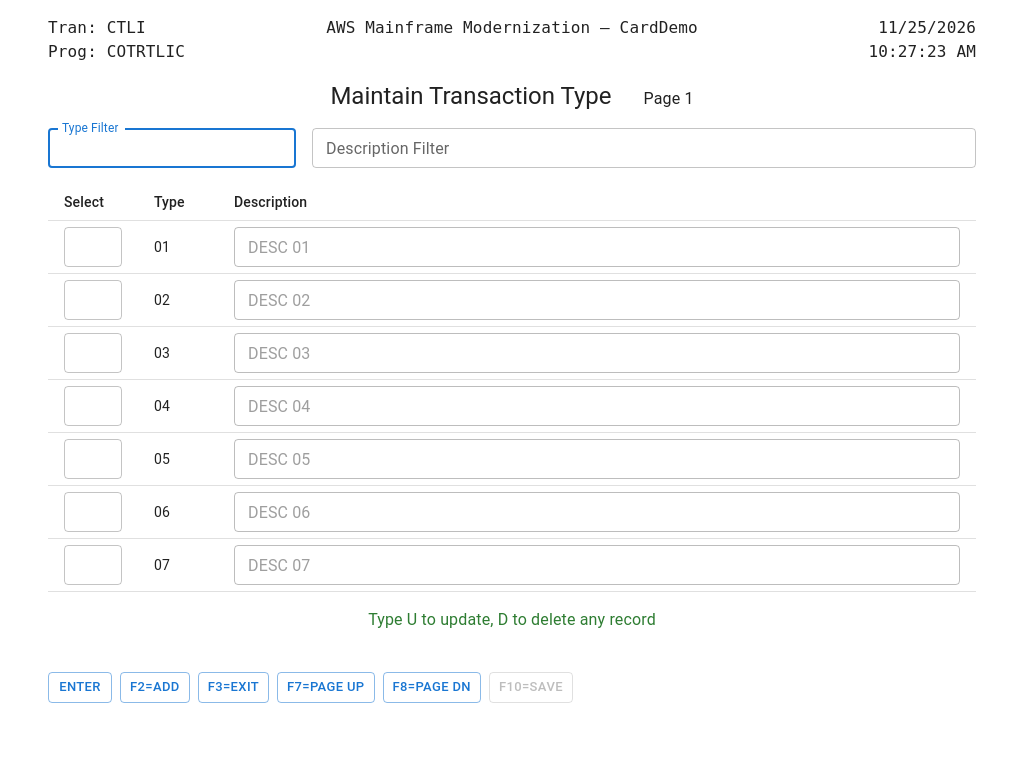
it: TransactionTypeListPage (CTLI) › delete success reloads page 1
Expected: the row with test id "row-01" is shown, x1=48 y1=220 x2=976 y2=274
In the field named "action 03": (93, 353) x1=64 y1=333 x2=122 y2=373, type "D"
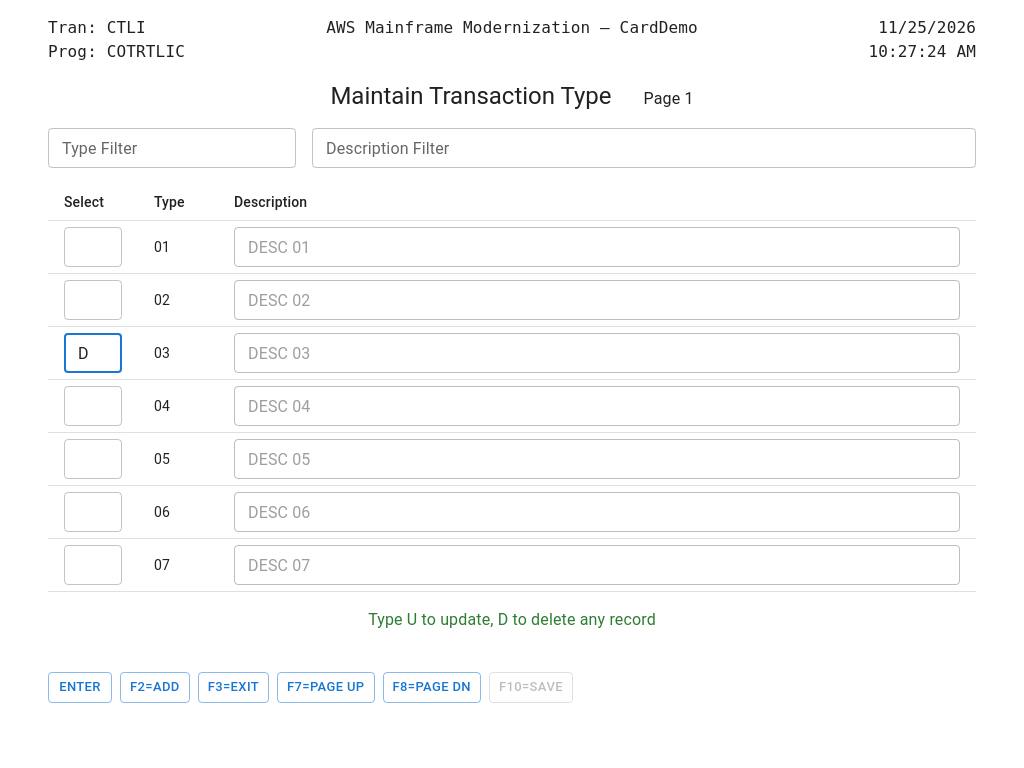
Click the button "ENTER": (80, 687) x1=48 y1=672 x2=112 y2=703
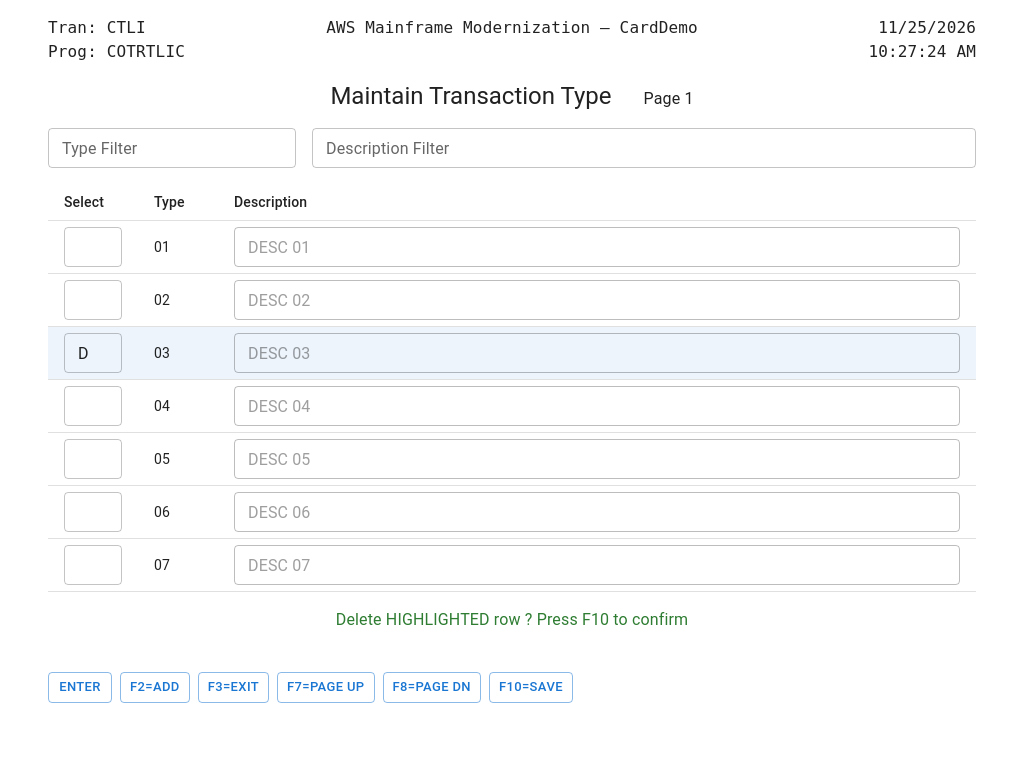
Click the button "F10=Save": (531, 687) x1=489 y1=672 x2=573 y2=703
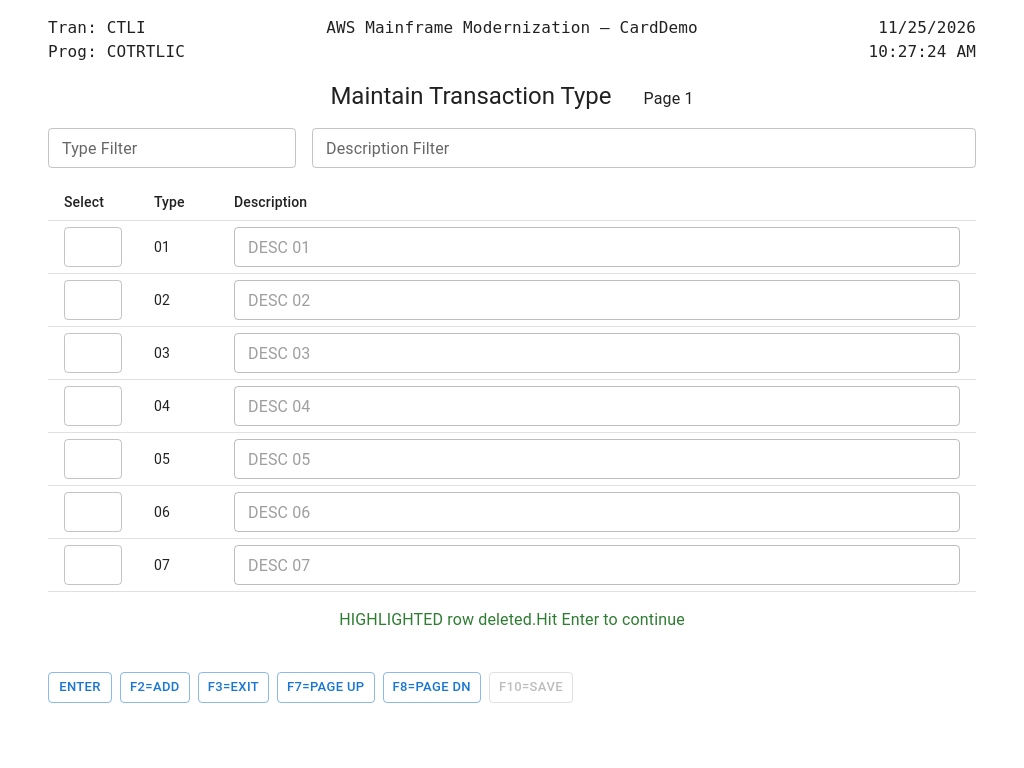
Now the text with test id "infomsg" reads "HIGHLIGHTED row deleted.Hit Enter to continue", box x1=339 y1=610 x2=685 y2=629
